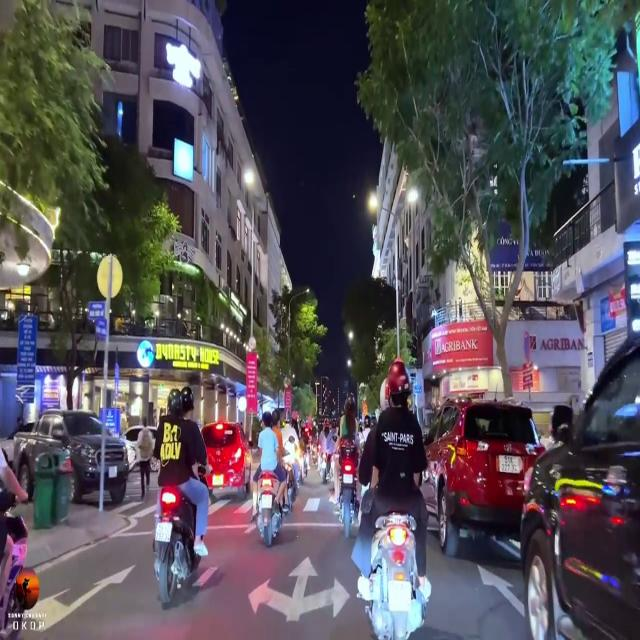bien_trang: (497, 454, 521, 474)
